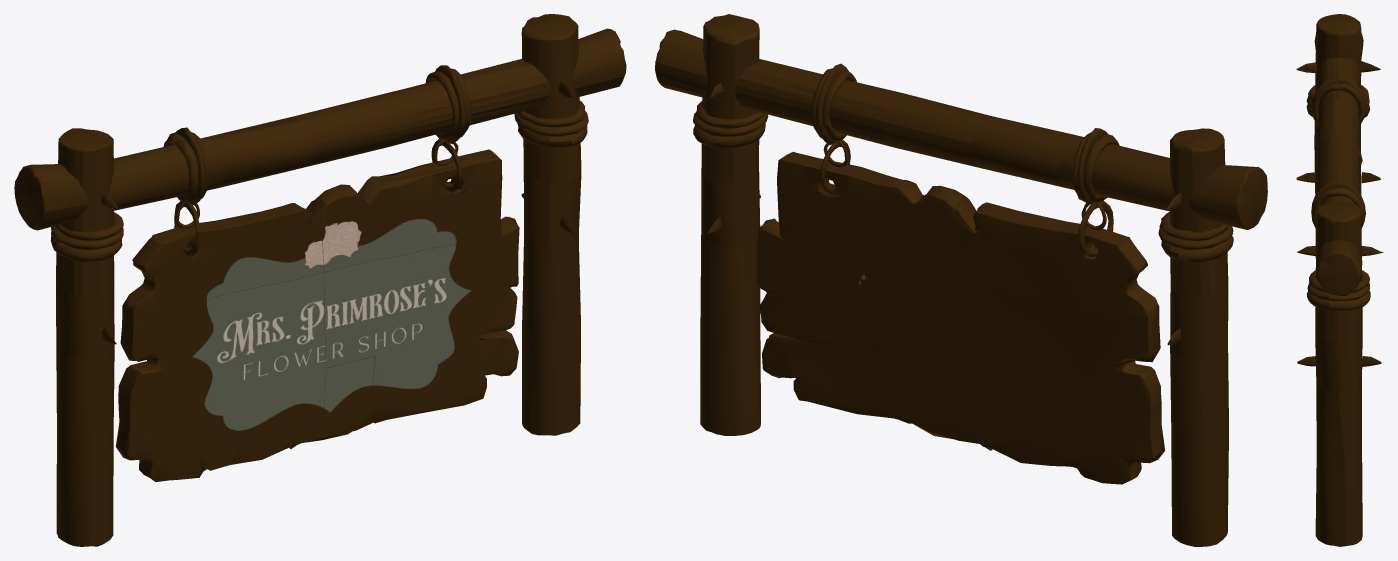
The model's file is Primrose_Flourist.glb.
The picture shows the model from 3 angles, left to right: view 1: azimuth 30°, elevation 25°; view 2: azimuth 150°, elevation 25°; view 3: azimuth 270°, elevation 25°; orthographic projection. The views are drawn at different scales.
Parts seen in each view (by area): view 1: mesh_node_n3d; view 2: mesh_node_n3d; view 3: mesh_node_n3d.
Part boxes in pixels (bbox=[...]): mesh_node_n3d: bbox=[14, 14, 626, 546]; mesh_node_n3d: bbox=[655, 14, 1267, 546]; mesh_node_n3d: bbox=[1296, 14, 1383, 546].
Size of the model in its own units: 1 by 0.6543 by 0.1582.
1 material, 1 textured.
